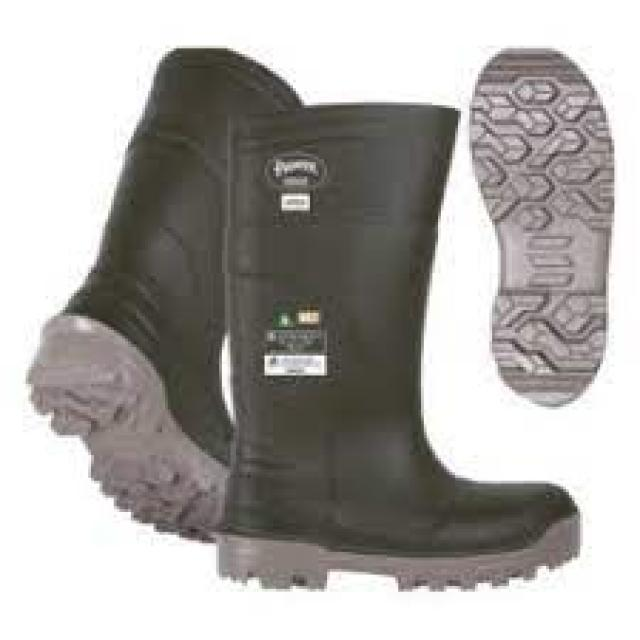shoes: (29, 49, 579, 587)
